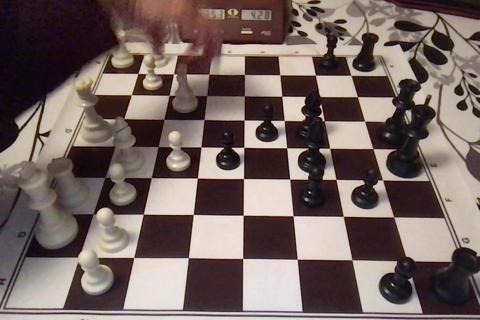xcorner: (343, 69, 357, 83), (236, 69, 250, 82), (166, 68, 179, 82), (274, 90, 287, 104), (124, 89, 137, 103), (236, 114, 249, 128), (150, 141, 163, 155), (107, 141, 121, 154), (374, 175, 388, 188), (328, 174, 341, 188), (235, 174, 249, 187), (189, 173, 203, 186), (143, 173, 157, 186), (98, 172, 111, 186), (335, 211, 348, 225), (235, 210, 248, 224), (185, 210, 199, 223), (136, 209, 149, 223), (398, 255, 411, 269), (343, 255, 357, 268), (127, 252, 140, 266), (308, 69, 321, 82), (272, 69, 285, 82), (201, 69, 214, 82), (130, 68, 143, 81), (350, 91, 363, 104), (312, 91, 325, 104), (236, 90, 249, 103), (199, 90, 212, 103), (161, 90, 174, 103), (357, 115, 370, 128), (317, 115, 330, 128), (276, 115, 289, 128), (196, 114, 209, 127), (156, 114, 169, 127), (116, 114, 129, 127), (365, 143, 378, 156), (322, 143, 335, 156), (279, 142, 292, 155), (236, 142, 249, 155), (193, 142, 206, 155), (282, 174, 295, 187), (385, 212, 398, 225), (285, 211, 298, 224), (86, 209, 99, 222), (289, 254, 302, 267), (235, 254, 248, 267), (181, 253, 194, 266), (73, 252, 86, 265)
